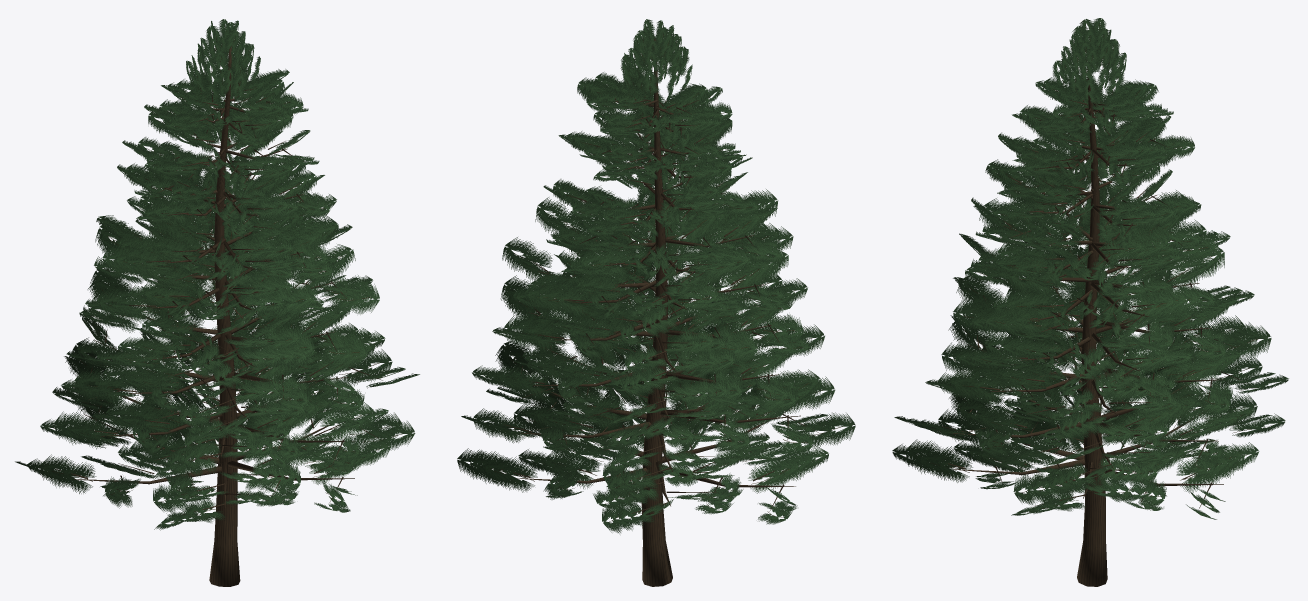
File: pine.glb
3 views of the same model, side by side, from view 1: azimuth 30°, elevation 25°; view 2: azimuth 150°, elevation 25°; view 3: azimuth 270°, elevation 25° (orthographic).
Visible parts, largest first — view 1: SM_pine_Foliage, SM_pine_BarkBranches; view 2: SM_pine_Foliage, SM_pine_BarkBranches; view 3: SM_pine_Foliage, SM_pine_BarkBranches.
Part boxes in pixels (<box>): SM_pine_Foliage: <box>15,19,419,530</box>; SM_pine_BarkBranches: <box>55,46,382,586</box>; SM_pine_Foliage: <box>457,19,855,533</box>; SM_pine_BarkBranches: <box>501,38,818,586</box>; SM_pine_Foliage: <box>892,18,1288,519</box>; SM_pine_BarkBranches: <box>933,70,1246,586</box>.
Size of the model in its own units: 5.18 by 7.57 by 4.97.
2 materials, 2 textured.
